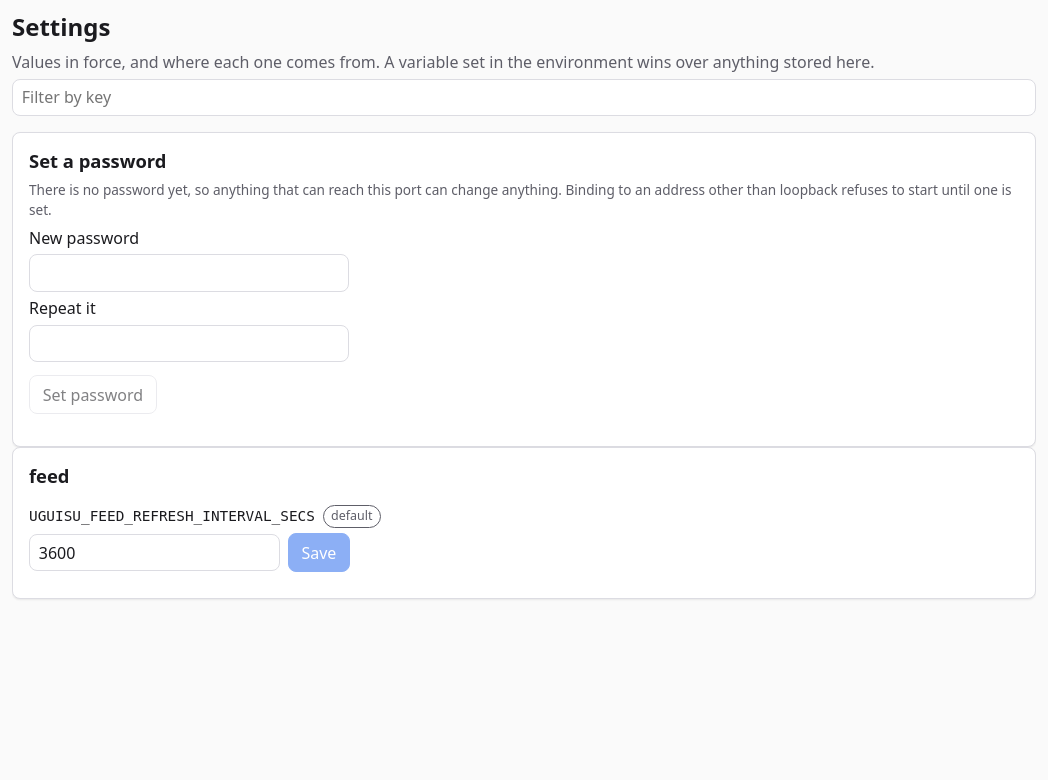
Test: settings view › surfaces a rejected write
The width and height of the screenshot is (1048, 780).
Replace the text in the field named "Value of UGUISU_FEED_REFRESH_INTERVAL_SECS" with "banana": [154, 553] box [29, 534, 280, 571]
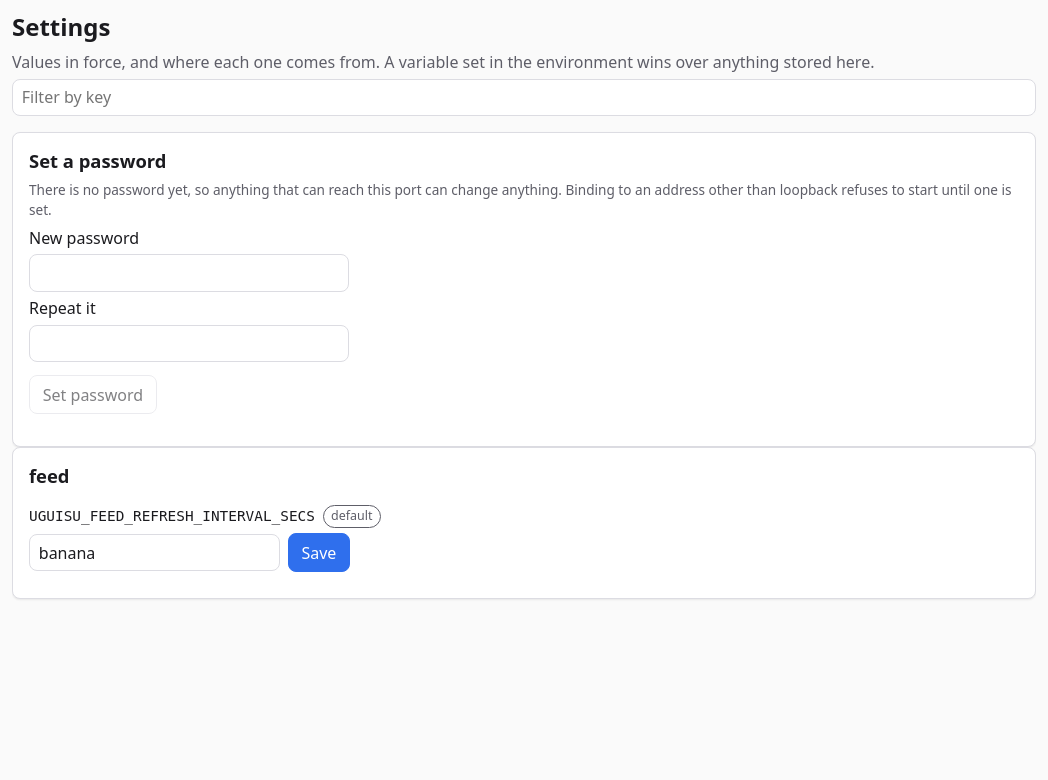
Expected: the button "Save" is enabled
Click the button "Save": [319, 553] box [288, 533, 350, 572]
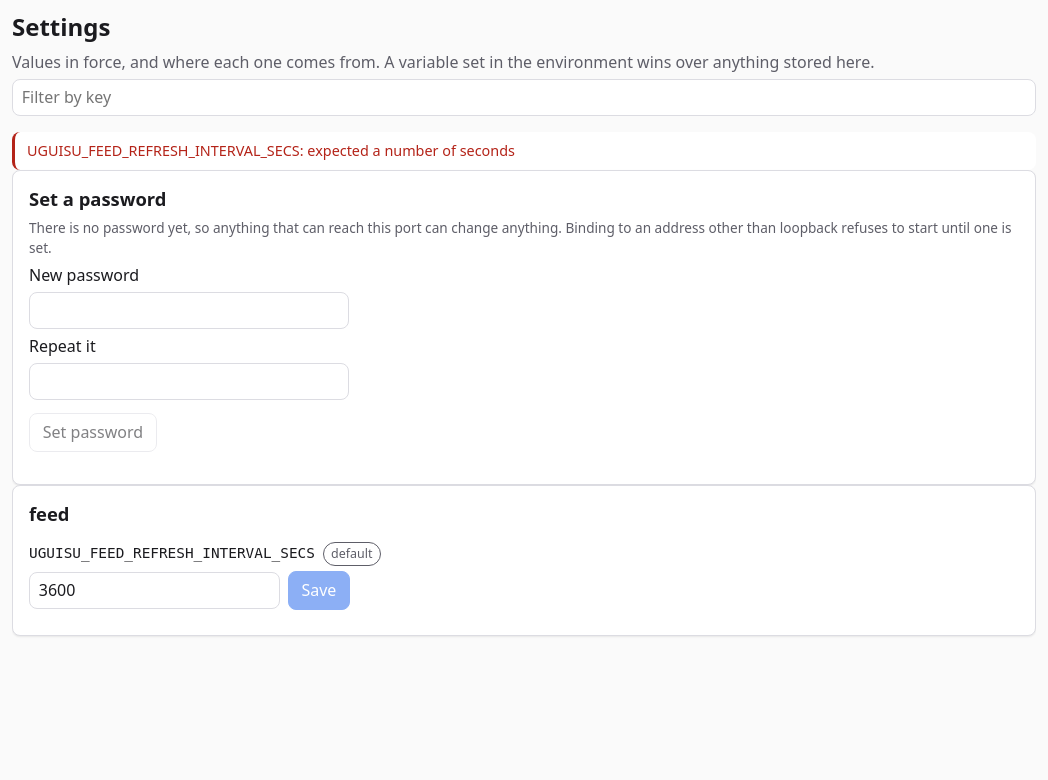
Expected: the search field with placeholder "Filter by key" is shown, [12, 79, 1036, 116]
Expected: the message shows "expected a number of seconds", [27, 141, 515, 160]
